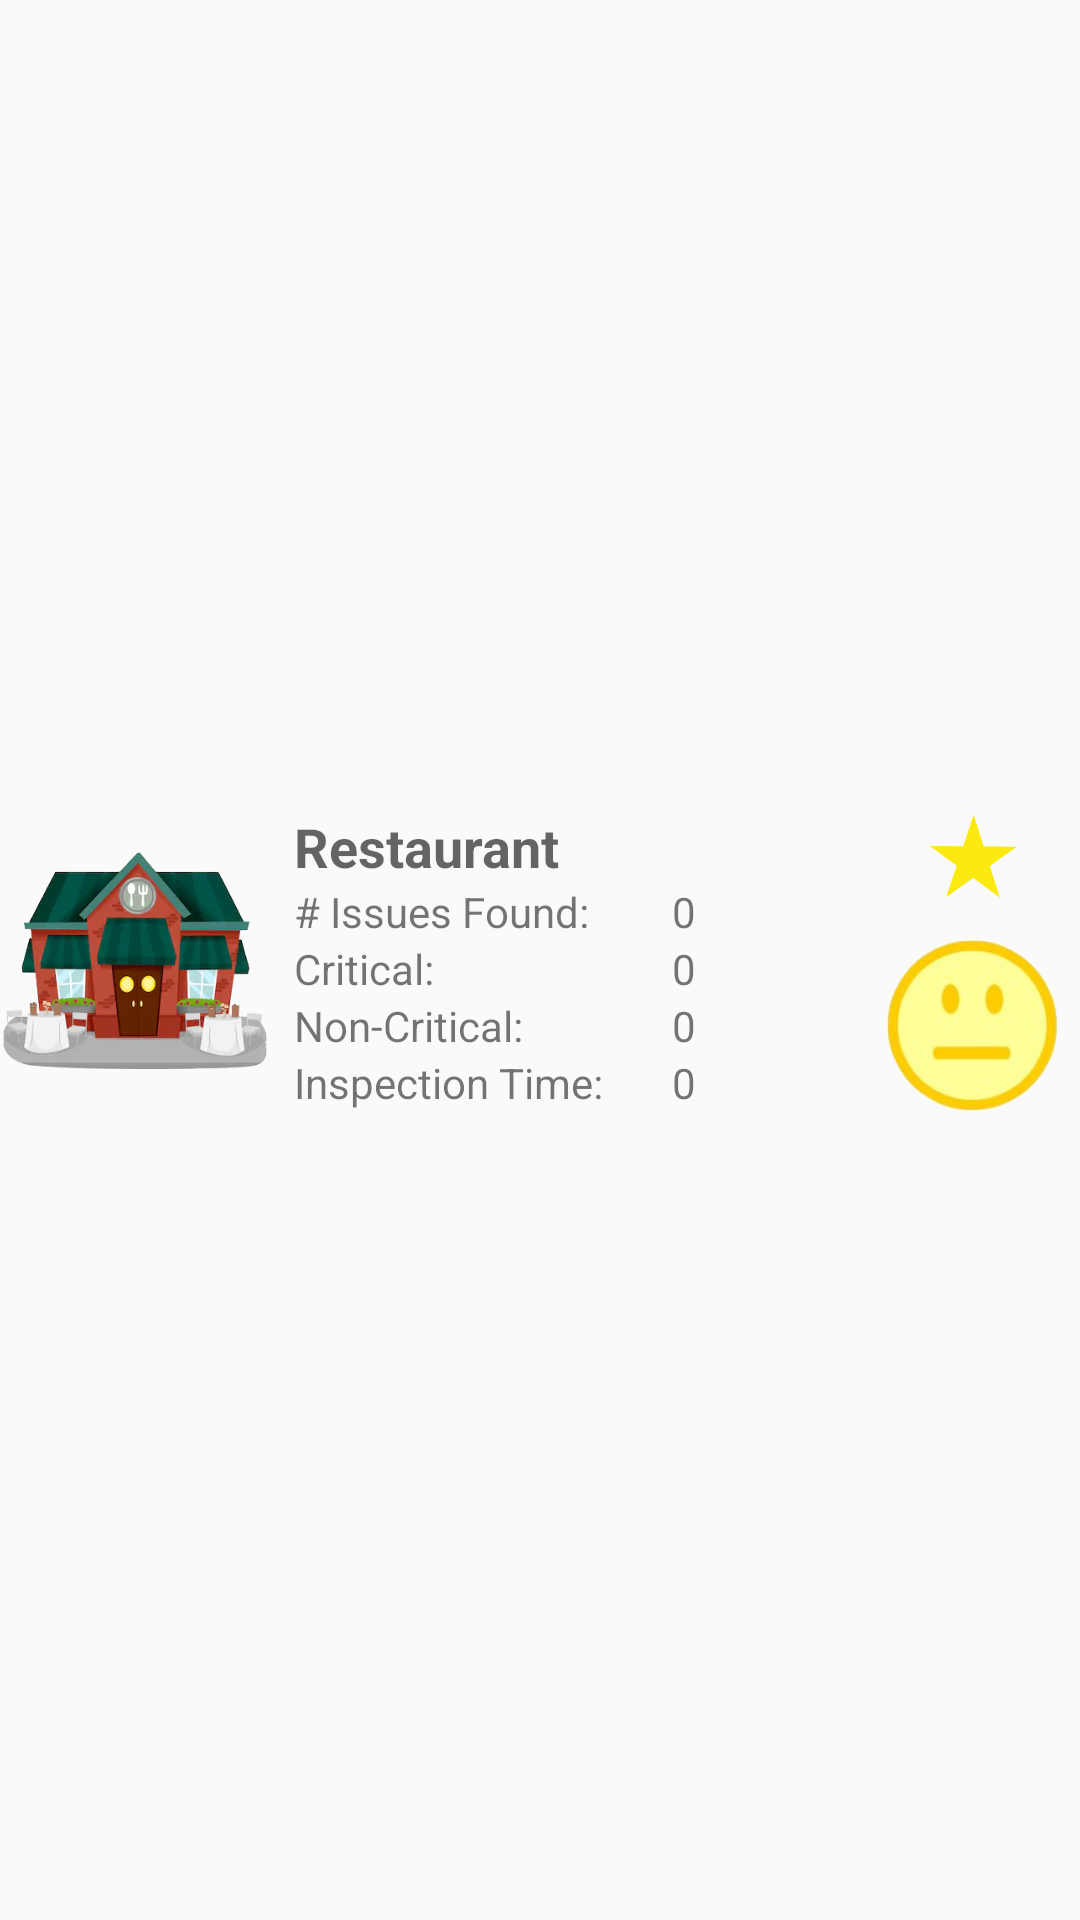

Screen size 1080 x 1920. Icon name, then its box in pixels as (x1, y1, x2, y2):
hazard level: (887, 940, 1058, 1111)
staryellow: (930, 815, 1017, 898)
